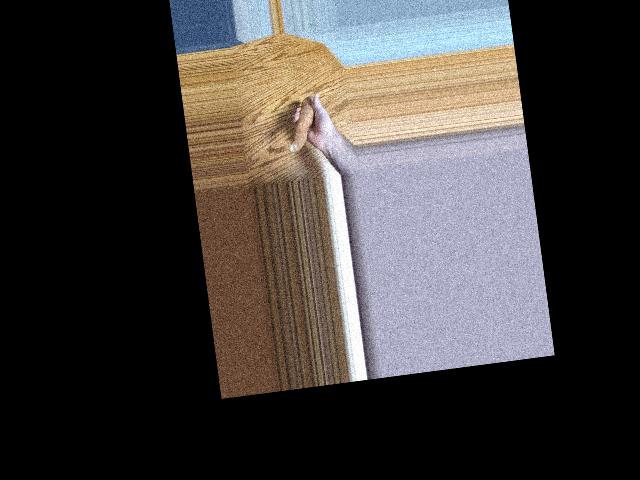sweet_potato: (283, 98, 320, 155)
